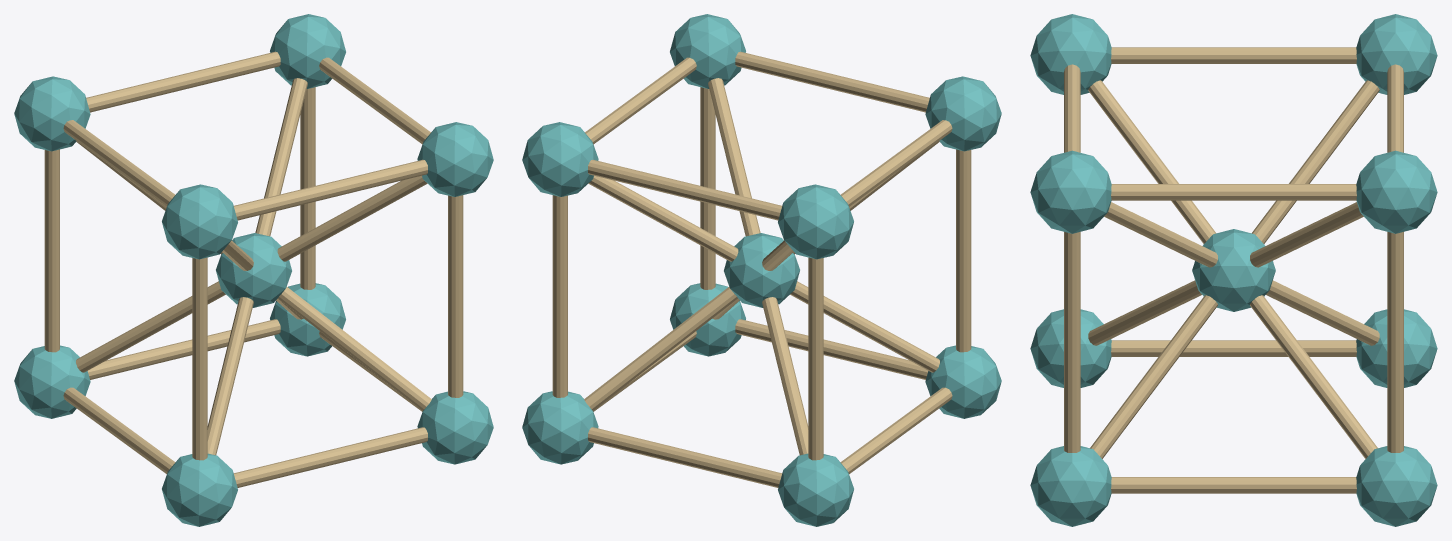
Rendered from atomium_9_spheres_20_connectors.glb.
3 views of the same model, side by side, from view 1: azimuth 30°, elevation 25°; view 2: azimuth 150°, elevation 25°; view 3: azimuth 270°, elevation 25° (orthographic). The views are drawn at different scales.
Visible parts, largest first — view 1: sphere_03, sphere_01, sphere_07, sphere_05, sphere_02, sphere_00, sphere_06, sphere_08, connector_03, connector_10, connector_01, connector_06 (+13 smaller); view 2: sphere_02, sphere_00, sphere_06, sphere_04, sphere_03, sphere_01, sphere_07, sphere_08, connector_01, connector_09, connector_03, connector_07 (+13 smaller); view 3: sphere_06, sphere_07, sphere_04, sphere_05, sphere_02, sphere_03, sphere_08, connector_05, connector_08, connector_11, connector_09, connector_10 (+13 smaller).
Part boxes in pixels (bbox=[...]): sphere_03: bbox=[162, 184, 237, 259]; sphere_01: bbox=[162, 453, 237, 526]; sphere_07: bbox=[417, 122, 493, 196]; sphere_05: bbox=[417, 391, 493, 464]; sphere_02: bbox=[14, 76, 90, 151]; sphere_00: bbox=[14, 345, 90, 418]; sphere_06: bbox=[270, 14, 345, 88]; sphere_08: bbox=[216, 233, 291, 307]; connector_03: bbox=[192, 257, 207, 460]; connector_10: bbox=[448, 195, 463, 397]; connector_01: bbox=[44, 149, 59, 352]; connector_06: bbox=[86, 51, 280, 112]; sphere_02: bbox=[778, 184, 853, 259]; sphere_00: bbox=[778, 453, 853, 526]; sphere_06: bbox=[522, 122, 598, 196]; sphere_04: bbox=[522, 391, 598, 464]; sphere_03: bbox=[925, 76, 1001, 151]; sphere_01: bbox=[925, 345, 1001, 418]; sphere_07: bbox=[670, 14, 745, 88]; sphere_08: bbox=[724, 233, 799, 307]; connector_01: bbox=[808, 257, 823, 460]; connector_09: bbox=[552, 195, 567, 397]; connector_03: bbox=[956, 149, 971, 352]; connector_07: bbox=[735, 51, 929, 112]; sphere_06: bbox=[1356, 150, 1437, 233]; sphere_07: bbox=[1030, 150, 1111, 233]; sphere_04: bbox=[1356, 446, 1437, 526]; sphere_05: bbox=[1030, 446, 1111, 526]; sphere_02: bbox=[1356, 14, 1437, 94]; sphere_03: bbox=[1030, 14, 1111, 94]; sphere_08: bbox=[1192, 229, 1275, 311]; connector_05: bbox=[1111, 47, 1356, 63]; connector_08: bbox=[1111, 477, 1356, 493]; connector_11: bbox=[1111, 184, 1356, 200]; connector_09: bbox=[1387, 232, 1403, 452]; connector_10: bbox=[1064, 232, 1080, 452].
Bounding box in the file's own units: 6.8 × 6.8 × 6.8.
